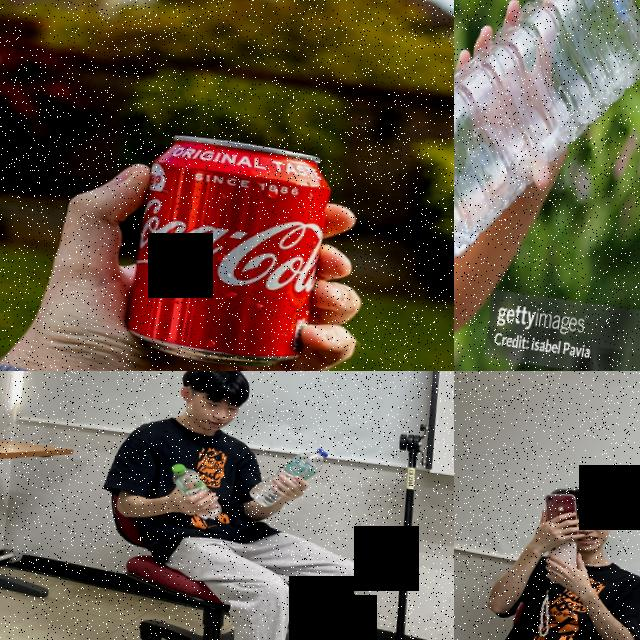bottle: (454, 0, 640, 322), (246, 440, 328, 516), (165, 462, 230, 522)
can: (121, 127, 336, 371)
